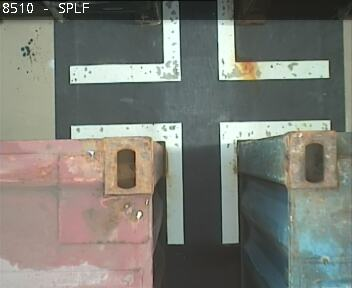groundmarker_1: (72, 119, 329, 244), (71, 1, 329, 84)
